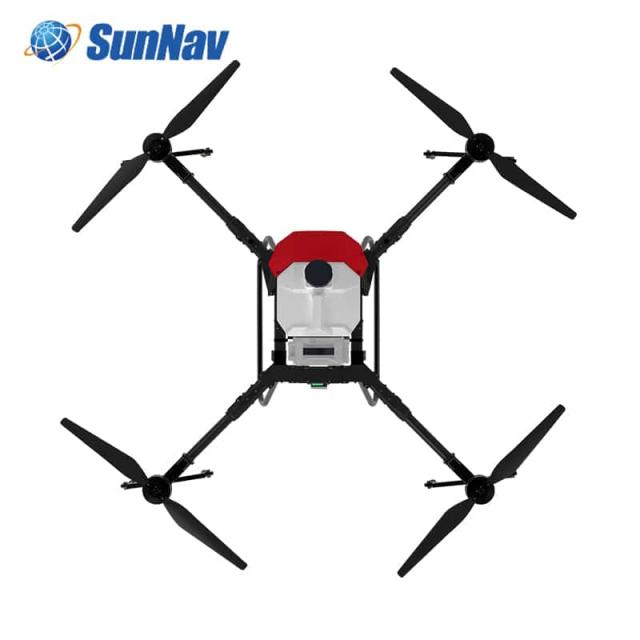drone: (35, 70, 639, 585)
